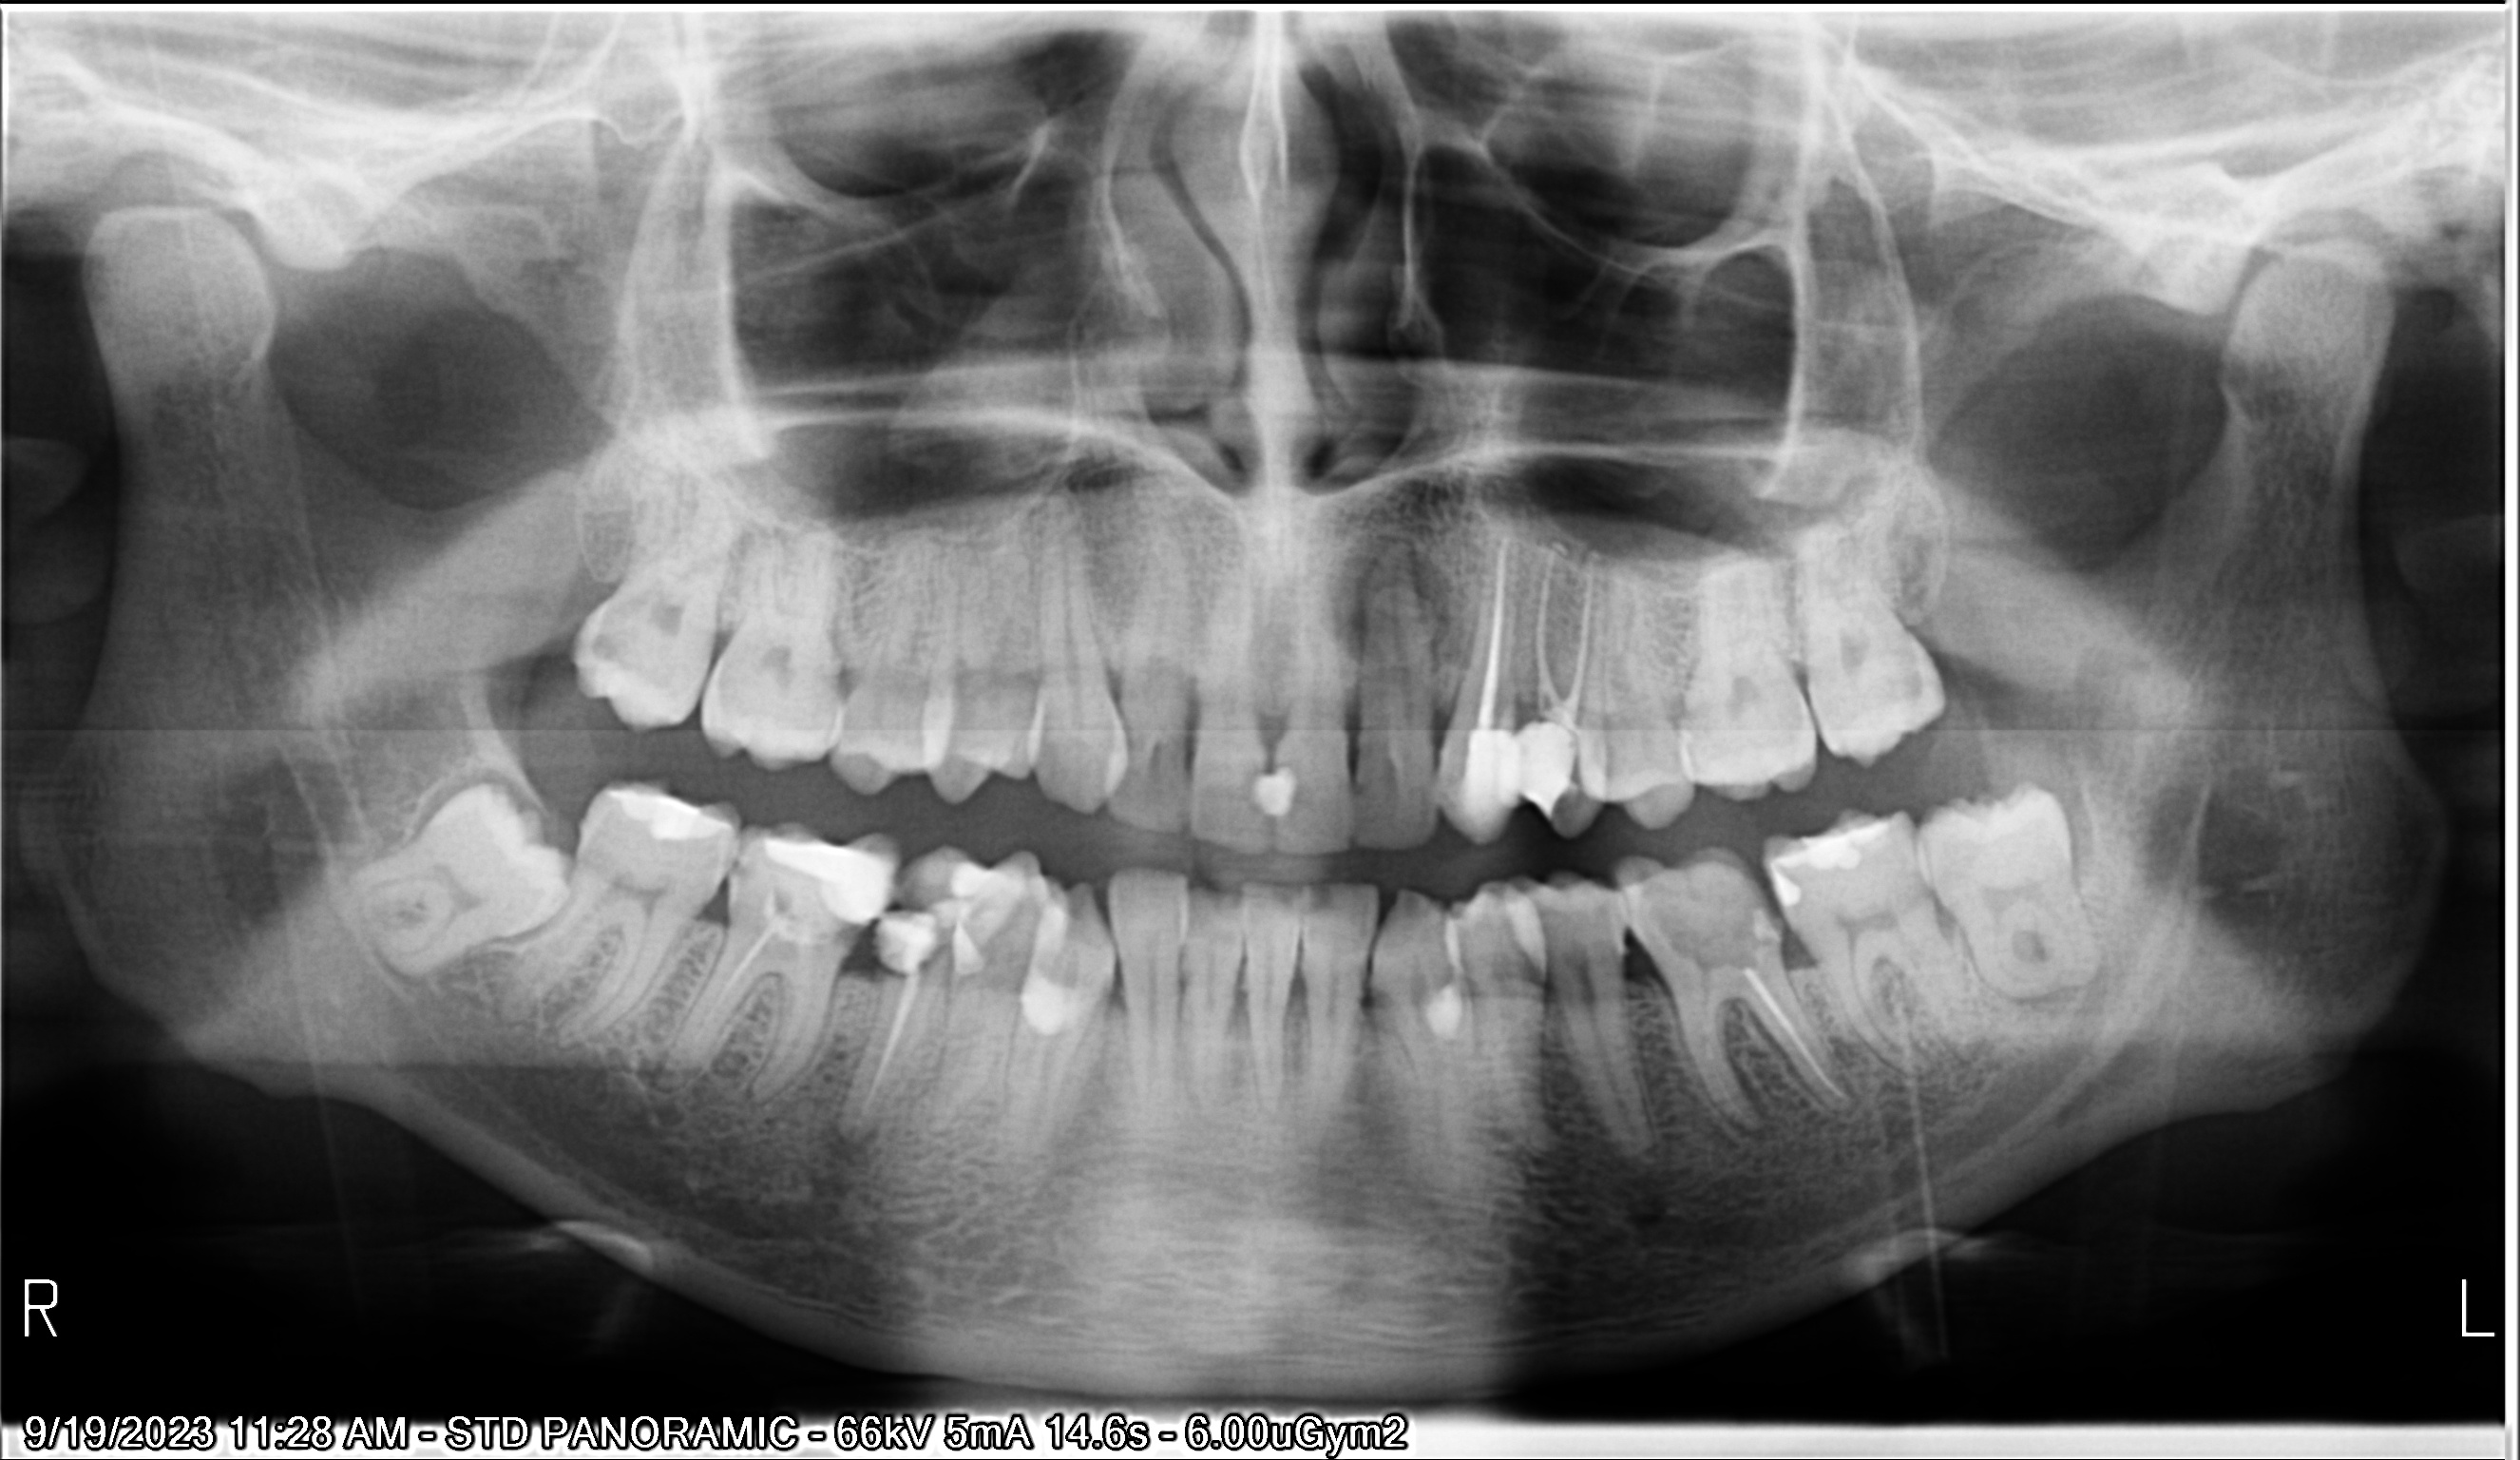CAR: (1622, 860, 1782, 977), (563, 624, 651, 690), (797, 897, 868, 963), (707, 834, 775, 897), (802, 657, 861, 709)
END: (684, 918, 851, 1092), (1728, 970, 1865, 1111), (1518, 544, 1619, 706), (1455, 532, 1530, 725), (856, 972, 933, 1131)
IMT: (333, 773, 594, 985)
OBT: (747, 834, 929, 932), (585, 770, 742, 857), (1499, 711, 1593, 826), (1445, 711, 1534, 831), (1004, 954, 1101, 1052), (870, 892, 947, 992), (1794, 800, 1900, 871), (1403, 970, 1488, 1052), (943, 899, 995, 991), (1266, 749, 1316, 839), (1744, 864, 1827, 914), (1235, 760, 1280, 820)
